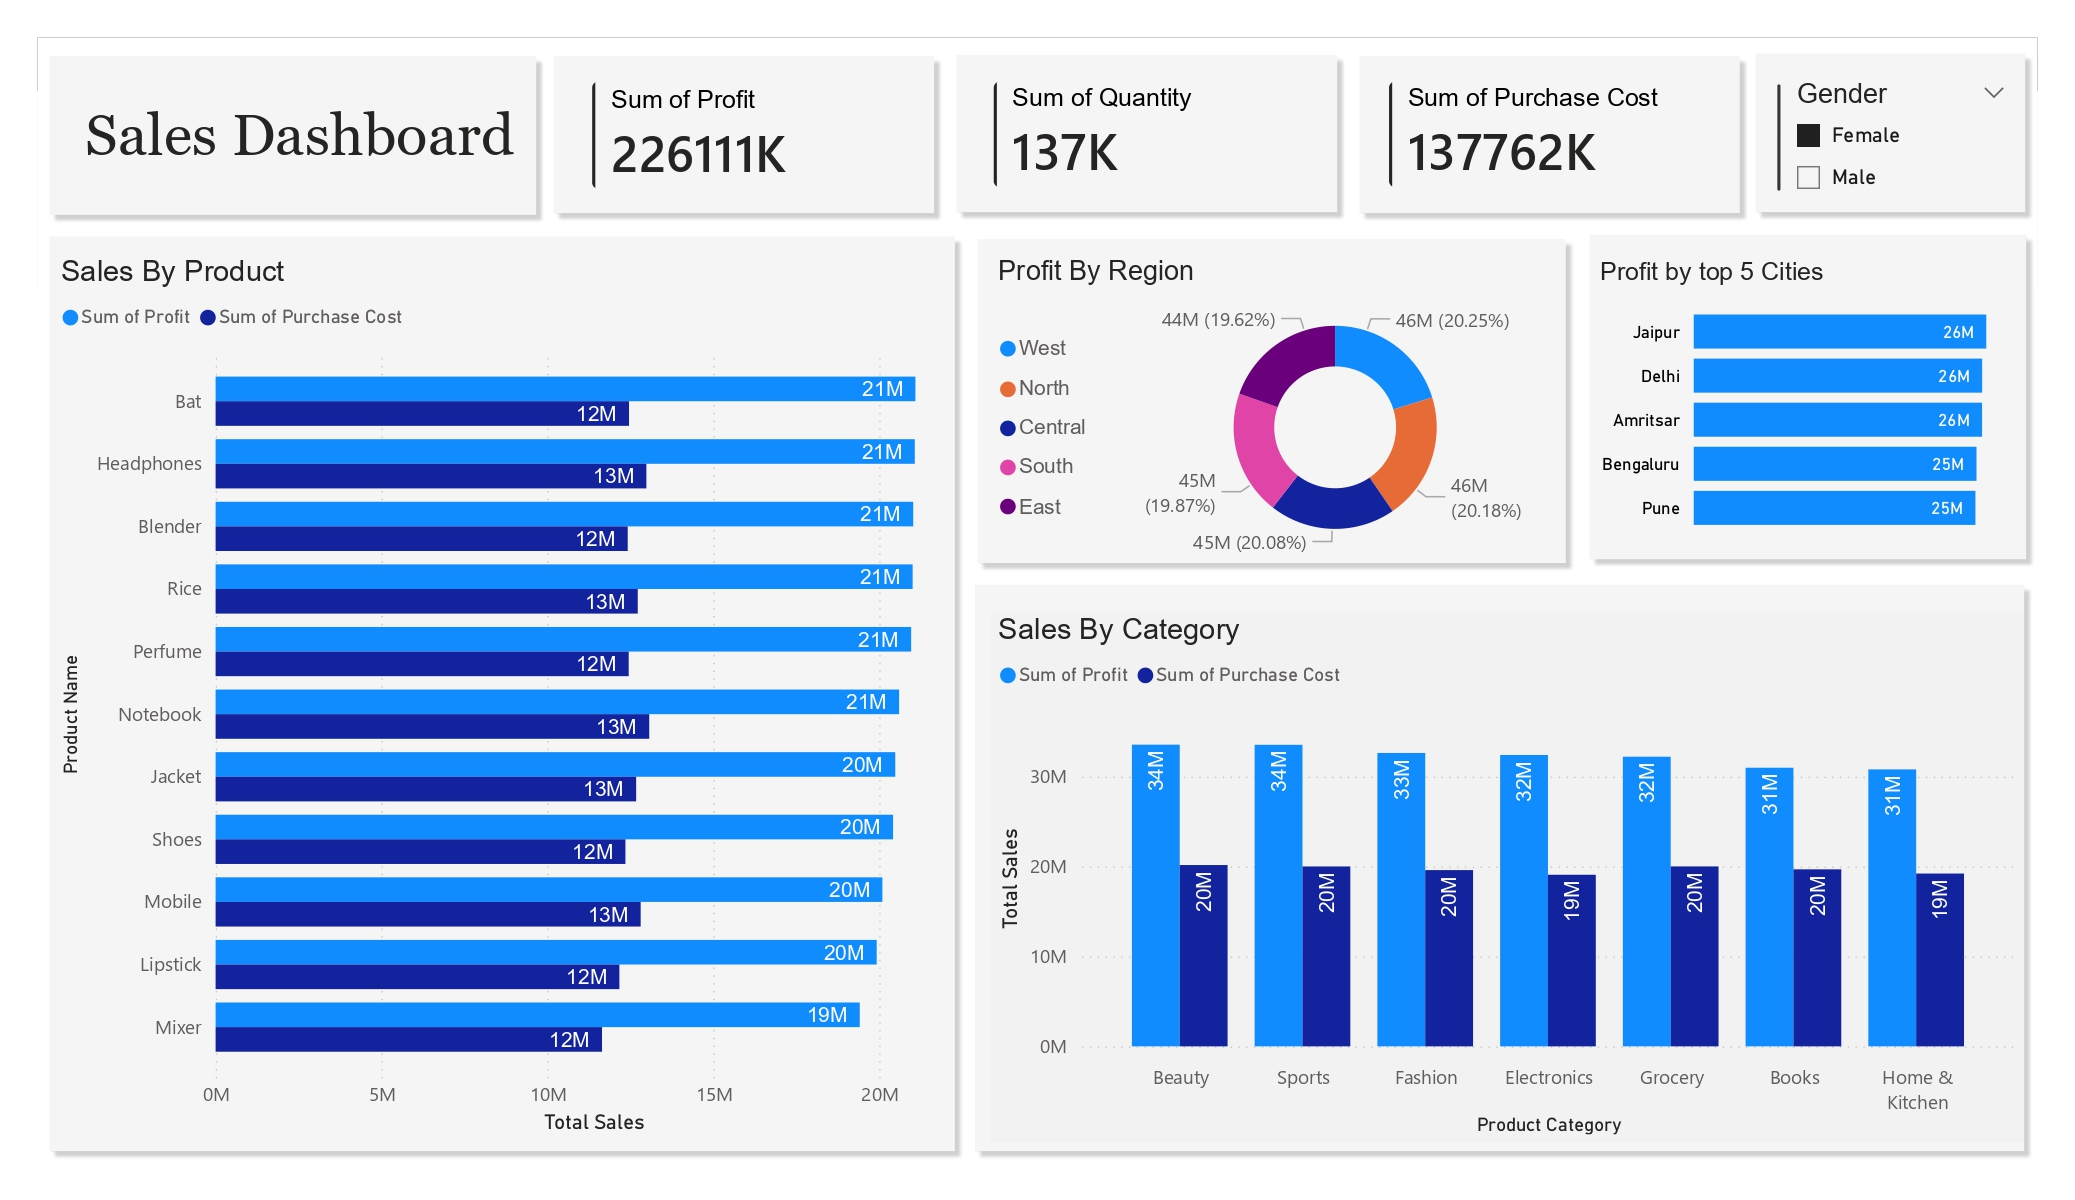

What the dashboard file says about the page in this screenshot:
{"tool":"powerbi","page":{"name":"Page 1","canvas":[1280,720],"ordinal":0},"visuals":[{"type":"shape","box":[581,4,258.2,115.5],"z":0,"group":"g3"},{"type":"group","id":"g1","title":"Group 1","box":[0,4.8,330,116],"z":0},{"type":"shape","box":[0,4.8,325.9,116],"z":0,"group":"g1"},{"type":"shape","box":[839,5,258.2,115.5],"z":0,"group":"g4"},{"type":"shape","box":[323,5.3,258.2,115.5],"z":0,"group":"g2"},{"type":"cardVisual","fields":{"Data":["Sum(Ecommerce Sales Data.Quantity)"]},"box":[594.9,10.7,259.1,101.8],"z":1000,"group":"g3"},{"type":"cardVisual","fields":{"Data":["Sum(Ecommerce Sales Data.Profit)"]},"box":[338,11.2,260,102.7],"z":1000,"group":"g2"},{"type":"cardVisual","fields":{"Data":["Sum(Ecommerce Sales Data.Purchase Cost)"]},"box":[848.1,11.4,259.1,101.8],"z":1000,"group":"g4"},{"type":"textbox","box":[5.5,35.9,324.5,72.3],"z":1000,"group":"g1"},{"type":"group","id":"g2","title":"Sum of profif","box":[323,5.3,275,115],"z":2000},{"type":"group","id":"g3","title":"Sum of profif","box":[581,4,273,115],"z":3000},{"type":"group","id":"g4","title":"Sum of profif","box":[839,5,268,115],"z":4000},{"type":"shape","box":[594,122,391,222],"z":5000},{"type":"donutChart","title":"Profit By Region","fields":{"Y":["Sum(Ecommerce Sales Data.Profit)"],"Category":["Ecommerce Sales Data.Region"]},"box":[610,139,375,201],"z":6000},{"type":"shape","box":[593.3,343.3,685.6,376.7],"z":7000},{"type":"clusteredColumnChart","title":"Sales By Category","fields":{"Category":["Ecommerce Sales Data.Product Category"],"Y":["Sum(Ecommerce Sales Data.Profit)","Sum(Ecommerce Sales Data.Purchase Cost)"]},"box":[610,368,661,339],"z":8000},{"type":"shape","box":[0,120,594,600],"z":9000},{"type":"clusteredBarChart","title":"Sales By Product","fields":{"Category":["Ecommerce Sales Data.Product Name"],"Y":["Sum(Ecommerce Sales Data.Profit)","Sum(Ecommerce Sales Data.Purchase Cost)"]},"box":[10,139,606,568],"z":10000},{"type":"shape","box":[985.6,118.9,294.4,222.2],"z":11000},{"type":"barChart","title":"Profit by top 5 Cities","fields":{"Category":["Ecommerce Sales Data.City"],"Y":["Sum(Ecommerce Sales Data.Profit)"]},"box":[995,139,285,205],"z":12000},{"type":"group","id":"g5","title":"Group 2","box":[1061.8,3,216.9,115.6],"z":12500},{"type":"shape","box":[1092,3,186.7,115.6],"z":12500,"group":"g5"},{"type":"shape","box":[1061.8,30,104.5,68.2],"z":12750,"group":"g5"},{"type":"slicer","fields":{"Values":["Ecommerce Sales Data.Gender"]},"box":[1112.7,20.9,159.1,88.2],"z":13000}]}

Visuals, with their boxes on the page's 1280x720 design canvas (x1, y1, x2, y2). These are canvas units, not pixel positions in the 2075x1200 screenshot, which may show the page scaled, cropped or inside an application window:
shape: (x1=581, y1=4, x2=839, y2=120)
"Group 1" group: (x1=0, y1=5, x2=330, y2=121)
shape: (x1=0, y1=5, x2=326, y2=121)
shape: (x1=839, y1=5, x2=1097, y2=120)
shape: (x1=323, y1=5, x2=581, y2=121)
cardVisual - Sum(Ecommerce Sales Data.Quantity): (x1=595, y1=11, x2=854, y2=112)
cardVisual - Sum(Ecommerce Sales Data.Profit): (x1=338, y1=11, x2=598, y2=114)
cardVisual - Sum(Ecommerce Sales Data.Purchase Cost): (x1=848, y1=11, x2=1107, y2=113)
textbox: (x1=6, y1=36, x2=330, y2=108)
"Sum of profif" group: (x1=323, y1=5, x2=598, y2=120)
"Sum of profif" group: (x1=581, y1=4, x2=854, y2=119)
"Sum of profif" group: (x1=839, y1=5, x2=1107, y2=120)
shape: (x1=594, y1=122, x2=985, y2=344)
"Profit By Region" donutChart: (x1=610, y1=139, x2=985, y2=340)
shape: (x1=593, y1=343, x2=1279, y2=720)
"Sales By Category" clusteredColumnChart: (x1=610, y1=368, x2=1271, y2=707)
shape: (x1=0, y1=120, x2=594, y2=720)
"Sales By Product" clusteredBarChart: (x1=10, y1=139, x2=616, y2=707)
shape: (x1=986, y1=119, x2=1280, y2=341)
"Profit by top 5 Cities" barChart: (x1=995, y1=139, x2=1280, y2=344)
"Group 2" group: (x1=1062, y1=3, x2=1279, y2=119)
shape: (x1=1092, y1=3, x2=1279, y2=119)
shape: (x1=1062, y1=30, x2=1166, y2=98)
slicer - Ecommerce Sales Data.Gender: (x1=1113, y1=21, x2=1272, y2=109)
